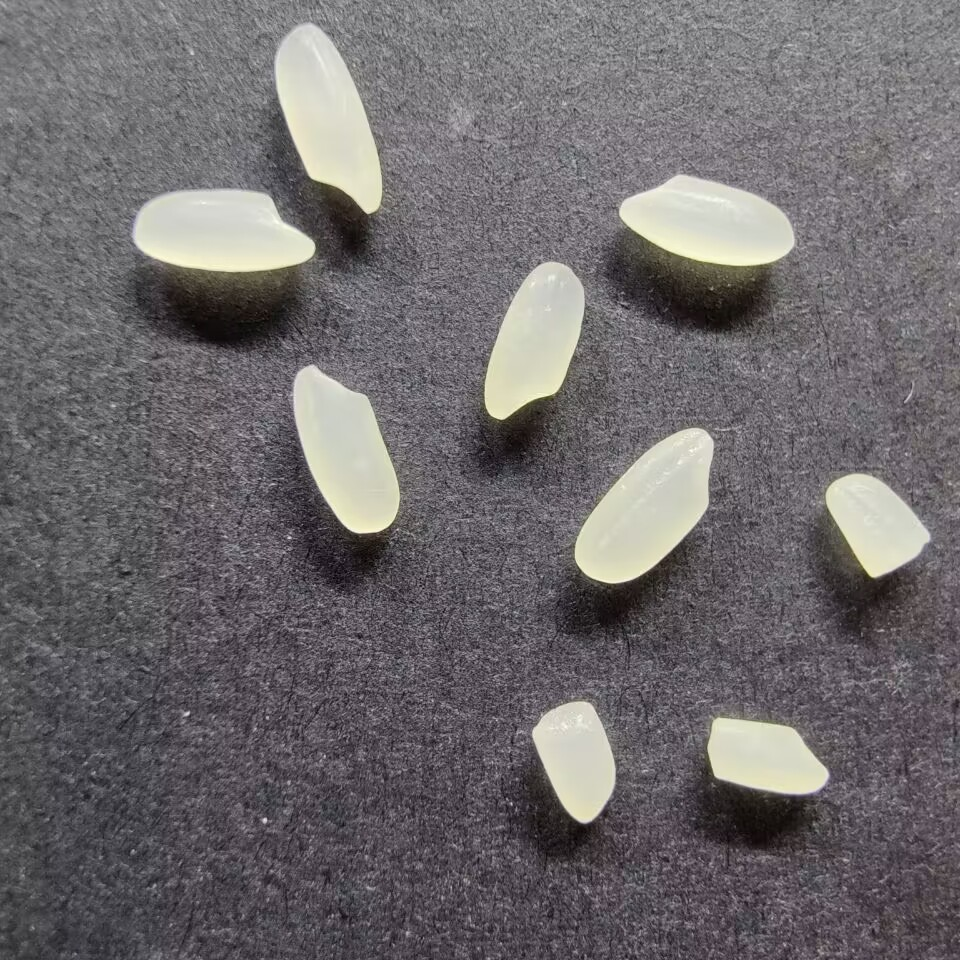broken: (825, 472, 931, 580), (528, 700, 619, 825), (707, 714, 832, 797)
rice: (571, 424, 717, 585), (271, 22, 384, 216), (290, 362, 403, 535), (615, 172, 796, 267), (481, 259, 587, 421), (131, 186, 317, 274)
